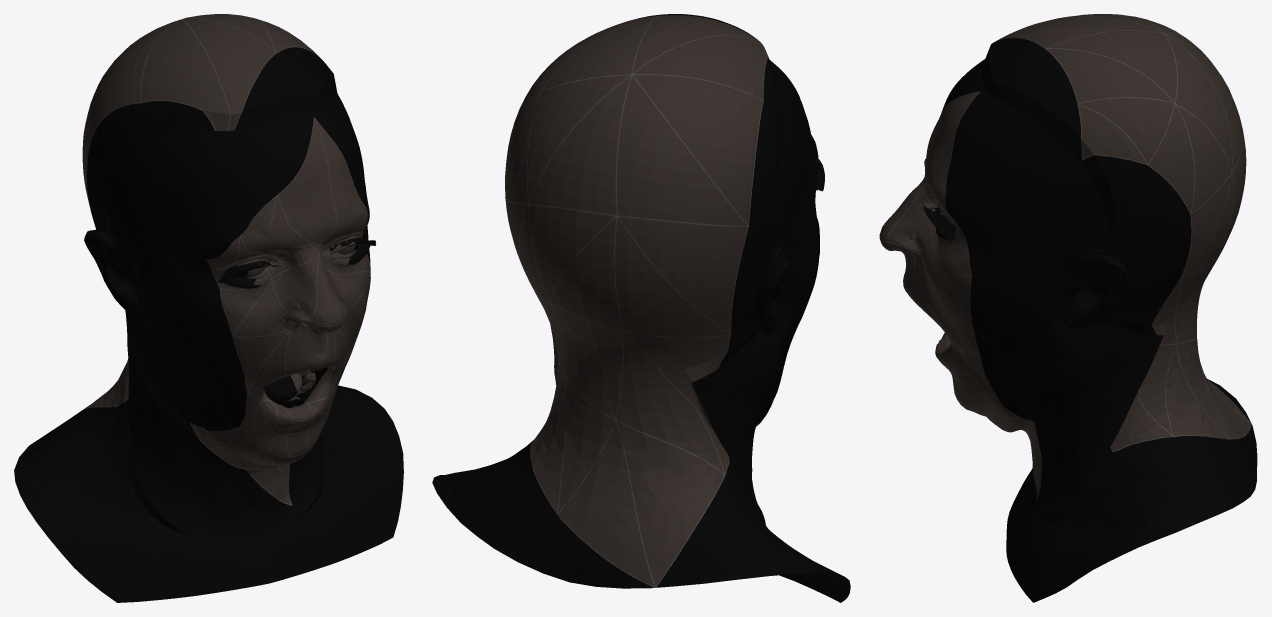
The model's file is ict_mediapipe_M_EyeBlend_textured.obj.
3 views of the same model, side by side, from view 1: azimuth 30°, elevation 25°; view 2: azimuth 150°, elevation 25°; view 3: azimuth 270°, elevation 25° (orthographic). The views are drawn at different scales.
Bounding box in the file's own units: 1.02 × 1.38 × 0.9253.
Materials: 1 (1 with a texture image).
